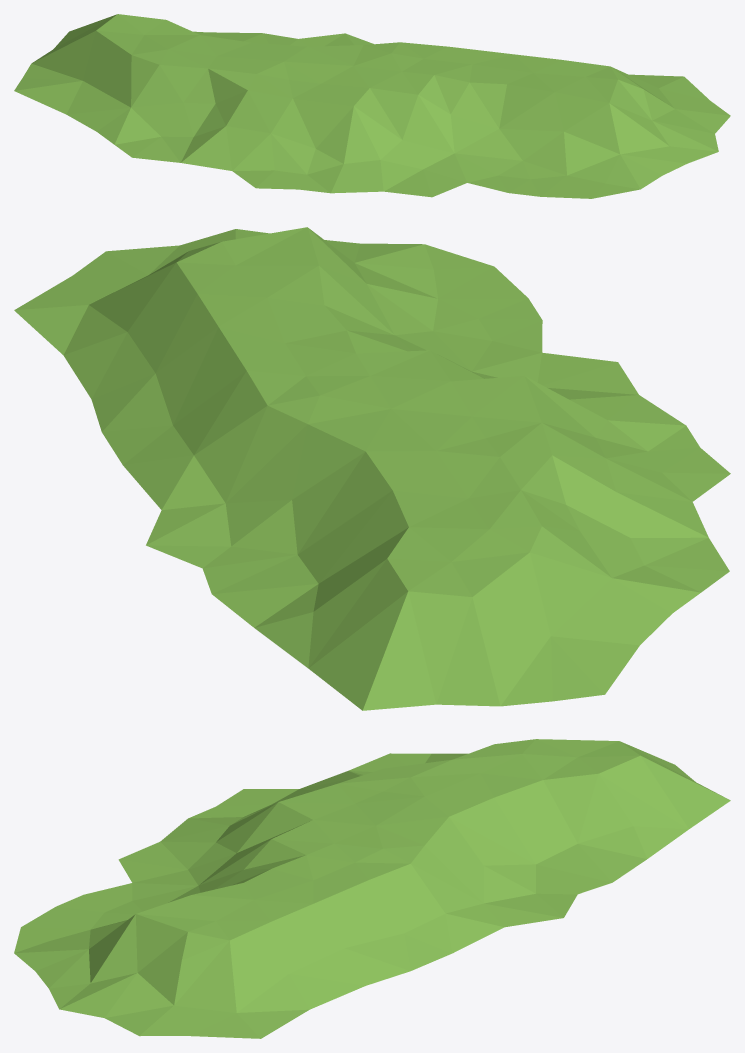
File: MT_Mountain_M_b_03.fbx
The picture shows the model from 3 angles, top to bottom: view 1: azimuth 30°, elevation 25°; view 2: azimuth 150°, elevation 25°; view 3: azimuth 270°, elevation 25°; orthographic projection. The views are drawn at different scales.
Parts seen in each view (by area): view 1: MT_Mountain_M_b_03; view 2: MT_Mountain_M_b_03; view 3: MT_Mountain_M_b_03.
Boxes of the visible parts, <box> form: MT_Mountain_M_b_03: <box>14,14,730,198</box>; MT_Mountain_M_b_03: <box>14,227,730,710</box>; MT_Mountain_M_b_03: <box>14,739,730,1038</box>.
Bounding box in the file's own units: 3945 × 328 × 4023.
